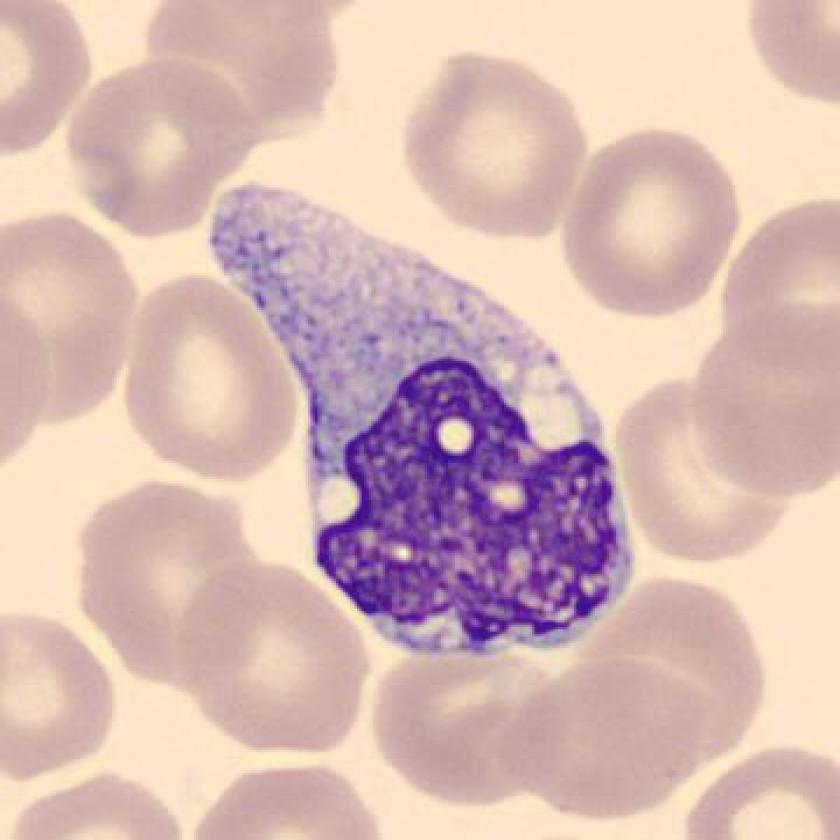monocyte: (185, 158, 685, 686)
